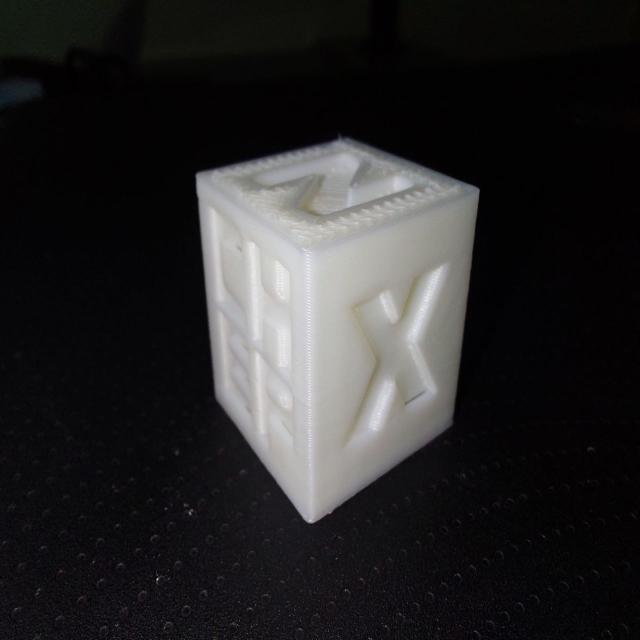Without deffect: (186, 114, 490, 543)
